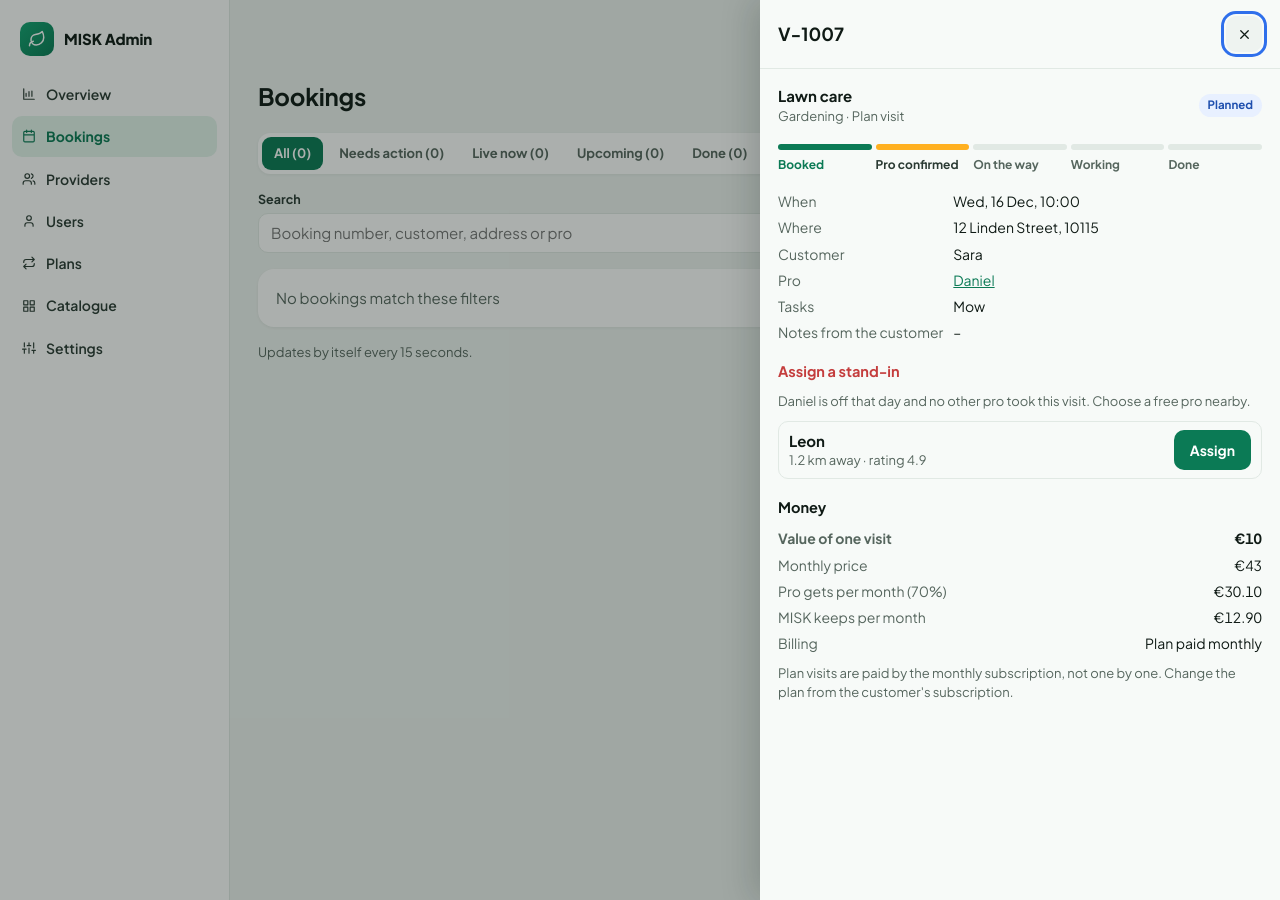
Test case: Assign a stand-in (D99) › lists free pros nearby and assigns one only after Confirm Assignment
Expected: the element "Assign a stand-in" shows "Daniel is off that day", [778,393,1250,409]
Expected: the element "Assign a stand-in" shows "1.2 km away · rating 4.9", [789,452,926,468]
Note: Cancel sends nothing.
Click the button with aria-label "Assign Leon" at point(1212, 450), box [1174,430,1251,470]
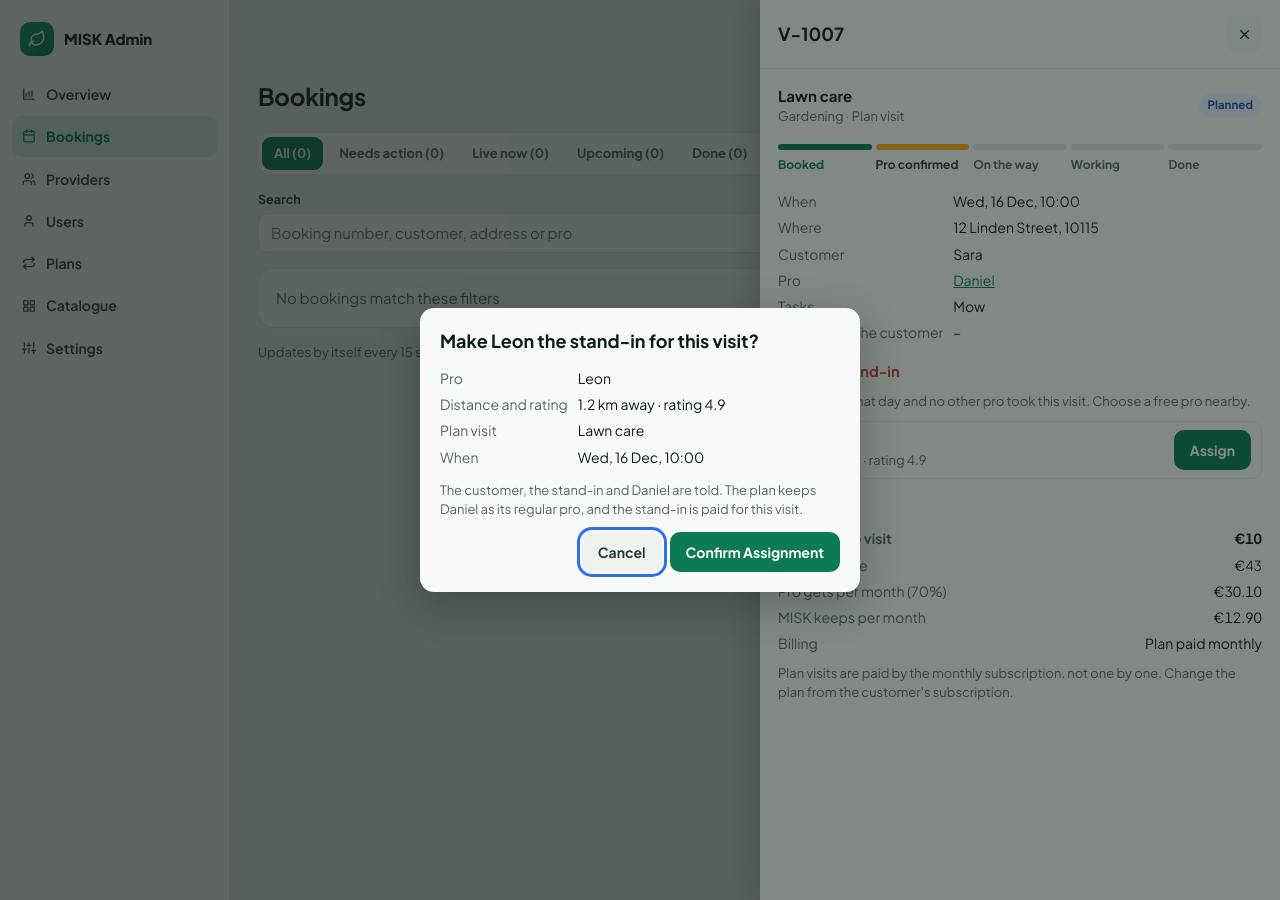
Result: the buttons read "Cancel", "Confirm Assignment", in this order
Result: the dialog "Make Leon the stand-in for this visit?" shows "Lawn care" at [578,421,644,439]
Click the button "Cancel" at point(622, 552), box [582,532,662,572]
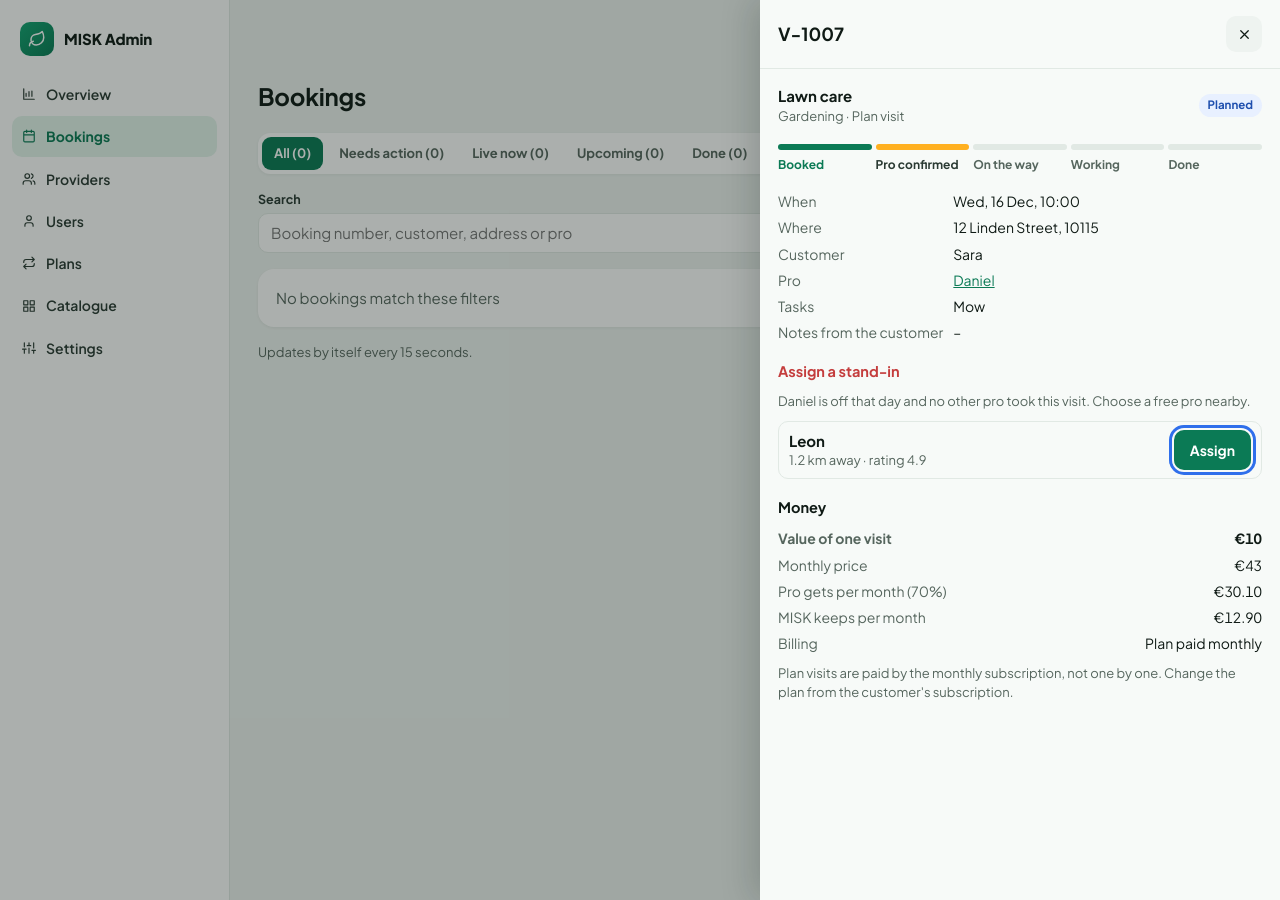
Click the button with aria-label "Assign Leon" at point(1212, 450), box [1174,430,1251,470]
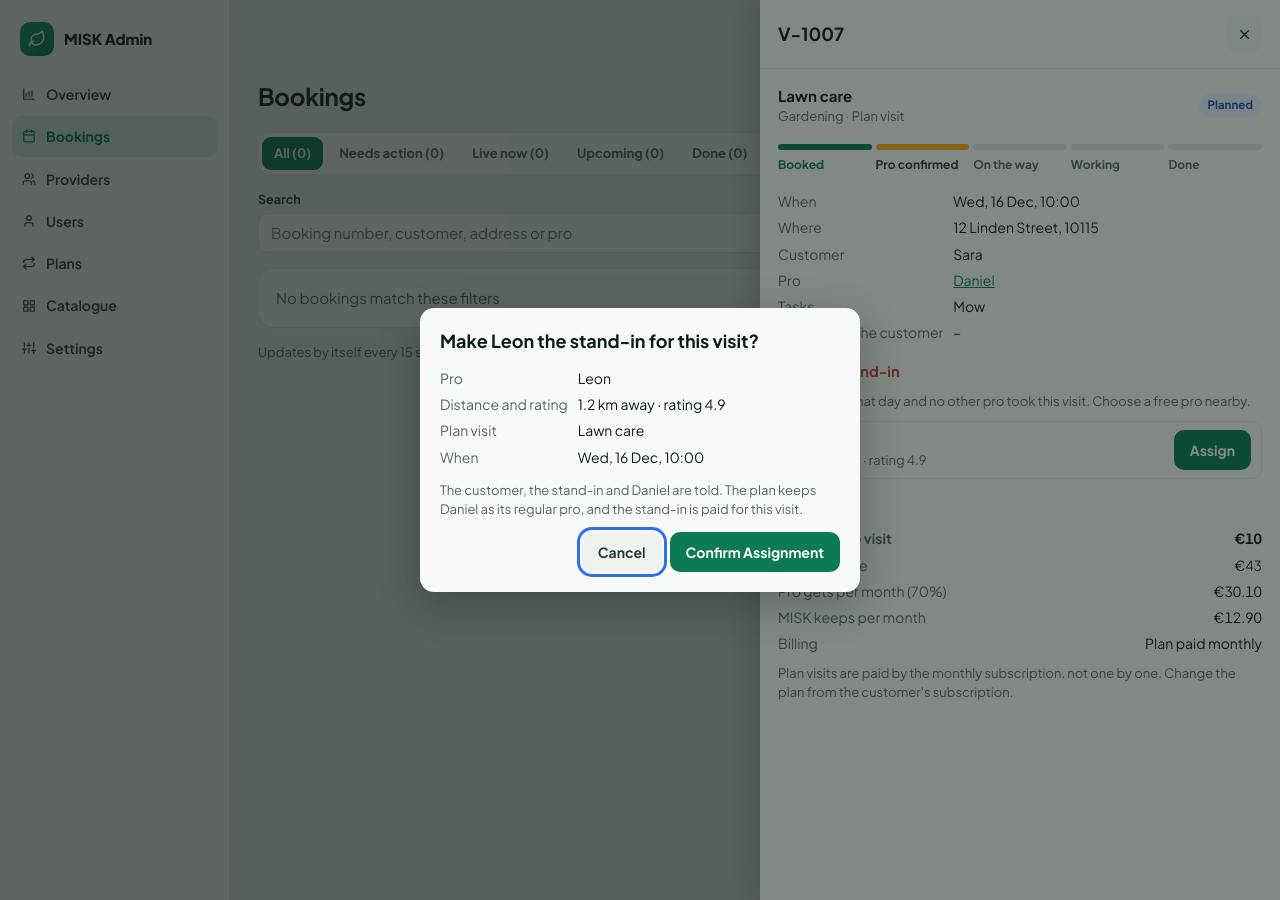
Click the button "Confirm Assignment" at point(755, 552), box [670,532,840,572]
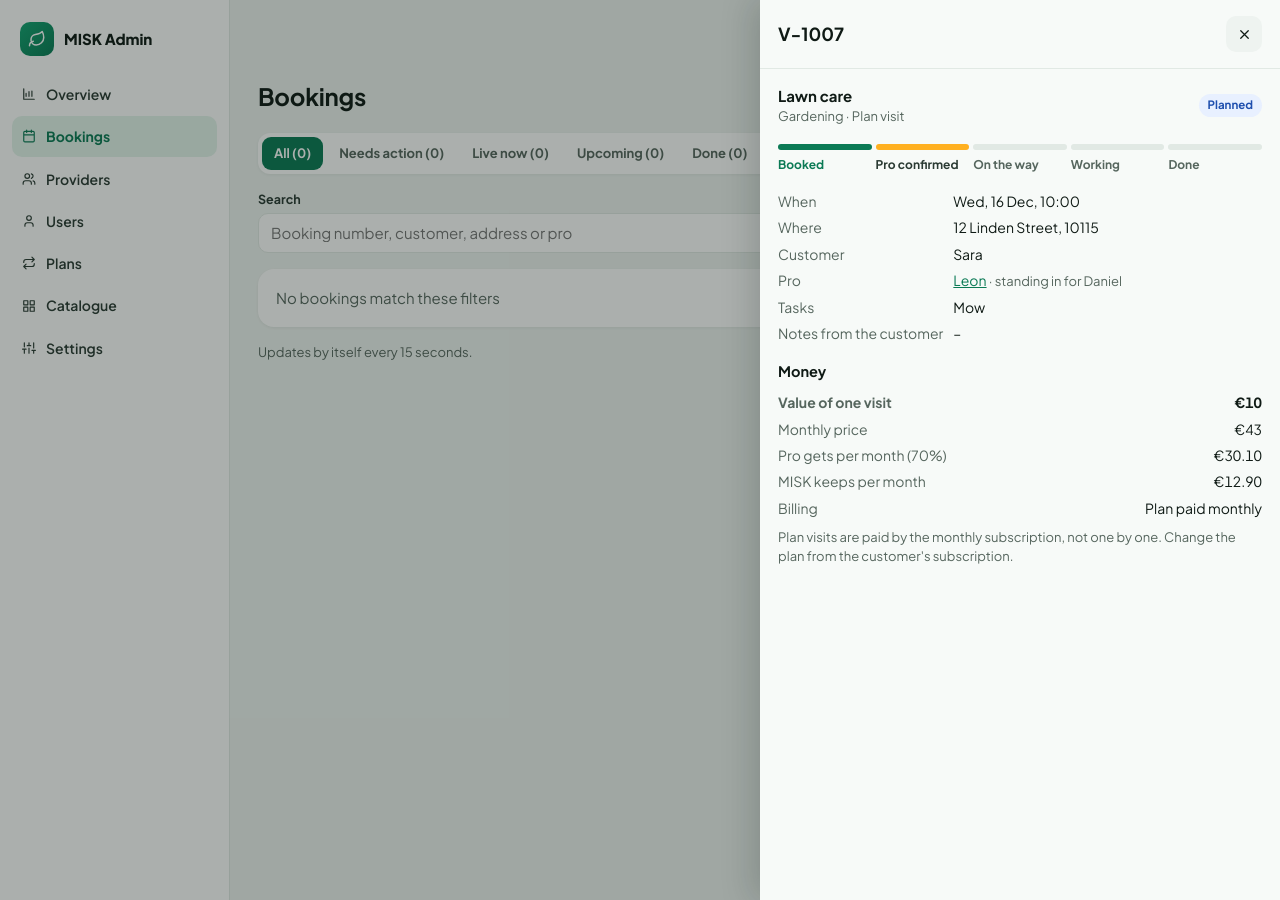
Result: the heading "Assign a stand-in" is gone
Result: the text "· standing in for Daniel" is shown at [987,273,1122,289]
